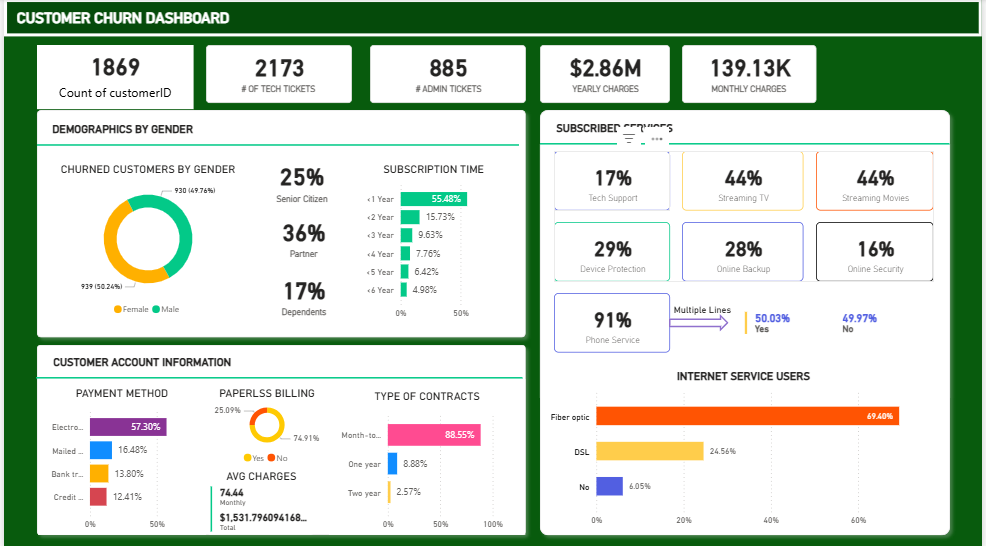

The dashboard page shown, as its layout file describes it:
{"tool":"powerbi","page":{"name":"Churn Dashboard","canvas":[1280,720],"ordinal":0},"visuals":[{"type":"shape","box":[0,0,1280,49],"z":0},{"type":"shape","box":[34,136,658,316],"z":0,"group":"g1"},{"type":"card","fields":{"Values":["Churn.% Tech Support"]},"box":[720,199,152.4,78.4],"z":0,"group":"g4"},{"type":"shape","box":[692,136,555,575],"z":1000},{"type":"card","fields":{"Values":["Churn.% Streaming TV"]},"box":[887.4,199,159.5,78.4],"z":1000,"group":"g4"},{"type":"donutChart","title":"CHURNED CUSTOMERS BY GENDER","fields":{"Category":["01 Churn-Dataset.gender"],"Y":["CountNonNull(01 Churn-Dataset.gender)"]},"box":[61.1,204.4,252.2,223.4],"z":1000,"group":"g1"},{"type":"shape","box":[702,123,536,133],"z":1500,"group":"g3"},{"type":"shape","box":[42,430,636.8,133],"z":1500,"group":"g2"},{"type":"textbox","box":[12,8,438,33],"z":2000},{"type":"textbox","box":[703.8,145,522.6,38],"z":2000,"group":"g3"},{"type":"textbox","box":[42.7,146.1,630.9,47.3],"z":2000,"group":"g1"},{"type":"card","fields":{"Values":["Churn.% Streaming Movies"]},"box":[1062.8,199,154.2,78.4],"z":2000,"group":"g4"},{"type":"textbox","box":[44.2,452,636.8,38],"z":2000,"group":"g2"},{"type":"card","fields":{"Values":["Churn.% of Senior Citizen"]},"box":[330.5,204.4,118,77.5],"z":3000,"group":"g1"},{"type":"card","fields":{"Values":["Churn.% Device Protection"]},"box":[720,291.6,152.4,78.4],"z":3000,"group":"g4"},{"type":"shape","box":[34,444,658,267],"z":3000},{"type":"card","fields":{"Values":["Count(Churn.customerID)"]},"box":[43.7,60.5,204.9,84],"z":4000},{"type":"card","fields":{"Values":["Churn.% of partner"]},"box":[329.5,278.9,125.5,74.5],"z":4000,"group":"g1"},{"type":"card","fields":{"Values":["Churn.% Online Backup"]},"box":[887.4,291.6,159.5,78.4],"z":4000,"group":"g4"},{"type":"shape","box":[42.7,151.1,630.9,78.5],"z":5000,"group":"g1"},{"type":"card","fields":{"Values":["Churn.% Online Sec"]},"box":[1062.8,291.6,154.2,78.4],"z":5000,"group":"g4"},{"type":"card","fields":{"Values":["Churn.% Phone Service"]},"box":[720,385,152,78],"z":5000},{"type":"card","fields":{"Values":["Sum(01 Churn-Dataset.numTechTickets)"]},"box":[264,60,191,76],"z":6000},{"type":"card","fields":{"Values":["Churn.% of Dependents"]},"box":[329.5,351.4,125.5,79.5],"z":6000,"group":"g1"},{"type":"clusteredBarChart","title":"SUBSCRIPTION TIME","fields":{"Y":["CountNonNull(Churn.Churn)"],"Category":["Churn.Tenure(in years)"]},"box":[466.9,204.4,190.5,220.4],"z":7000,"group":"g1"},{"type":"clusteredBarChart","title":"PAYMENT METHOD","fields":{"Y":["CountNonNull(Churn.PaymentMethod)"],"Category":["Churn.PaymentMethod"]},"box":[44,497,220,204],"z":7000},{"type":"card","fields":{"Values":["Sum(01 Churn-Dataset.TotalCharges)"]},"box":[702,60,170,76],"z":8000},{"type":"card","fields":{"Values":["Sum(01 Churn-Dataset.numAdminTickets)"]},"box":[479,60,204,76],"z":9000},{"type":"group","id":"g1","title":"Group 1","box":[34,136,658,316],"z":10000},{"type":"card","fields":{"Values":["Sum(01 Churn-Dataset.MonthlyCharges)"]},"box":[887,60,176,76],"z":11000},{"type":"donutChart","title":"PAPERLSS BILLING","fields":{"Category":["Churn.PaperlessBilling"],"Y":["CountNonNull(Churn.PaperlessBilling)"]},"box":[248,497,194,126],"z":12000},{"type":"multiRowCard","title":"AVG CHARGES","fields":{"Values":["Avg(Churn.MonthlyCharges)","Avg(Churn.TotalCharges)"]},"box":[264,606,143,95],"z":13000},{"type":"clusteredBarChart","title":"TYPE OF CONTRACTS","fields":{"Category":["Churn.Contract"],"Y":["CountNonNull(Churn.Contract)"]},"box":[426,497,257,204],"z":14000},{"type":"group","id":"g2","title":"Group 2","box":[42,430,639,133],"z":15000},{"type":"group","id":"g3","title":"Group 2","box":[702,123,536,133],"z":16000},{"type":"group","id":"g4","title":"Group 3","box":[720,199,497,171],"z":17000},{"type":"shape","box":[871,412,78,23],"z":18000},{"type":"textbox","box":[872,391,300,30],"z":19000},{"type":"multiRowCard","fields":{"Values":["Churn.% Yes-Multiple Lines","Churn.% No-Multiple Lines"]},"box":[965,404,252,53],"z":20000},{"type":"barChart","title":"INTERNET SERVICE USERS","fields":{"Y":["CountNonNull(Churn.InternetService)"],"Category":["Churn.InternetService"]},"box":[710,471,517,230],"z":21000}]}

Visuals, with their boxes in screenshot pixels (x1, y1, x2, y2), scaled from the page's 1280x720 canvas onto the 986x546 screenshot:
shape: 0 0 985 37
shape: 26 103 533 343
card - Churn.% Tech Support: 555 151 672 210
shape: 533 103 961 539
card - Churn.% Streaming TV: 684 151 806 210
"CHURNED CUSTOMERS BY GENDER" donutChart: 47 155 241 324
shape: 541 93 954 194
shape: 32 326 523 427
textbox: 9 6 347 31
textbox: 542 110 945 139
textbox: 33 111 519 147
card - Churn.% Streaming Movies: 819 151 937 210
textbox: 34 343 525 372
card - Churn.% of Senior Citizen: 255 155 345 214
card - Churn.% Device Protection: 555 221 672 281
shape: 26 337 533 539
card - Count(Churn.customerID): 34 46 191 110
card - Churn.% of partner: 254 211 350 268
card - Churn.% Online Backup: 684 221 806 281
shape: 33 115 519 174
card - Churn.% Online Sec: 819 221 937 281
card - Churn.% Phone Service: 555 292 672 351
card - Sum(01 Churn-Dataset.numTechTickets): 203 46 350 103
card - Churn.% of Dependents: 254 266 350 327
"SUBSCRIPTION TIME" clusteredBarChart: 360 155 506 322
"PAYMENT METHOD" clusteredBarChart: 34 377 203 532
card - Sum(01 Churn-Dataset.TotalCharges): 541 46 672 103
card - Sum(01 Churn-Dataset.numAdminTickets): 369 46 526 103
"Group 1" group: 26 103 533 343
card - Sum(01 Churn-Dataset.MonthlyCharges): 683 46 819 103
"PAPERLSS BILLING" donutChart: 191 377 340 472
"AVG CHARGES" multiRowCard: 203 460 314 532
"TYPE OF CONTRACTS" clusteredBarChart: 328 377 526 532
"Group 2" group: 32 326 525 427
"Group 2" group: 541 93 954 194
"Group 3" group: 555 151 937 281
shape: 671 312 731 330
textbox: 672 297 903 319
multiRowCard - Churn.% Yes-Multiple Lines x Churn.% No-Multiple Lines: 743 306 937 347
"INTERNET SERVICE USERS" barChart: 547 357 945 532
